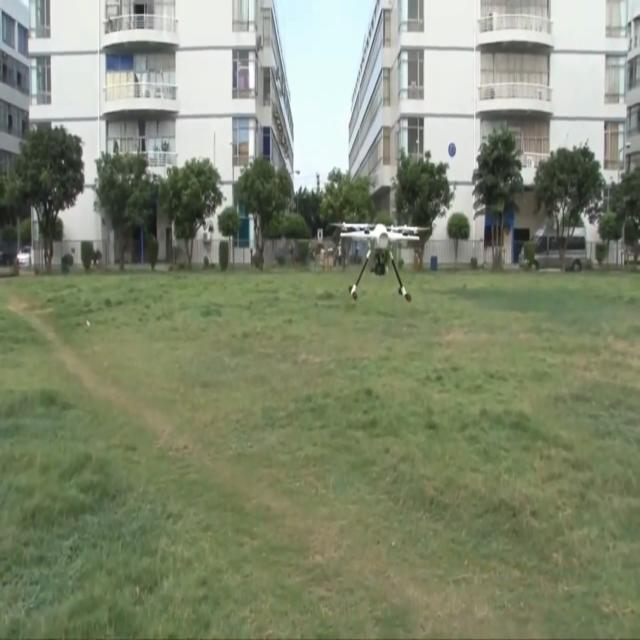drone: (327, 220, 432, 303)
